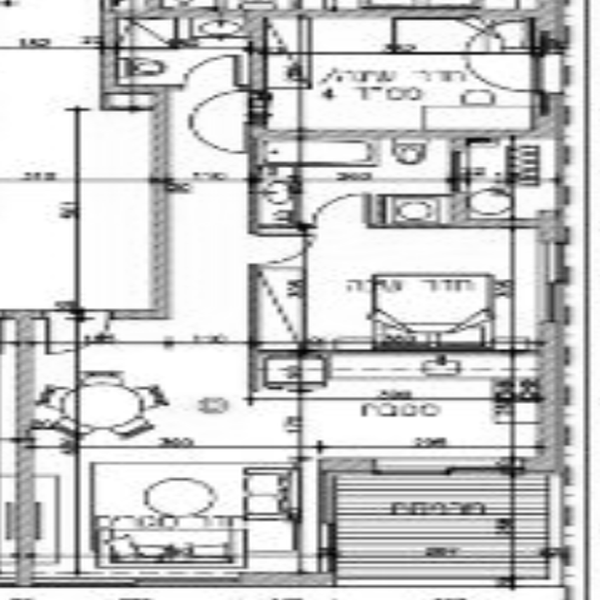door: (46, 309, 122, 362), (309, 183, 371, 228), (187, 51, 243, 88)
room: (252, 130, 565, 354)
wall: (141, 86, 180, 320)
window: (377, 456, 452, 477)
